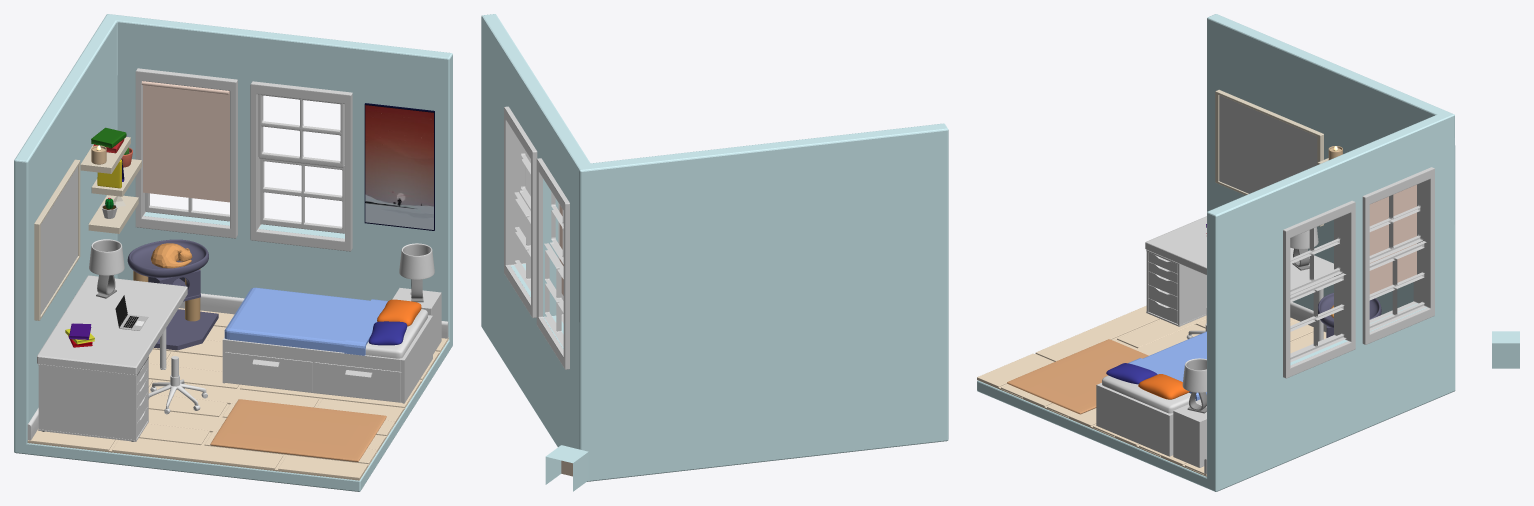
File: room_animation.glb
3 renders of one model, left to right at view 1: azimuth 30°, elevation 25°; view 2: azimuth 150°, elevation 25°; view 3: azimuth 270°, elevation 25°, orthographic. The views are drawn at different scales.
Parts seen in each view (by area): view 1: Body.005, desk-cattree, Bed and nightstand, Wall stuff, Body.011, Floor items, Body.008, Body.004, desk-items-cat, Shelves, Body.003, Body.002 (+3 smaller); view 2: Body.005, Body.008, Body.004, Cube, Body.001, Body.003, Body.009; view 3: Body.005, Bed and nightstand, Wall stuff, desk-cattree, Body.008, Body.004, Floor items, Body.011, Body.003, desk-items-cat, Body.001, Pillows (+3 smaller).
Boxes of the visible parts, left/top/right/bottom form: Body.005: left=14, top=14, right=452, bottom=491; desk-cattree: left=37, top=239, right=218, bottom=441; Bed and nightstand: left=222, top=287, right=441, bottom=403; Wall stuff: left=34, top=103, right=434, bottom=320; Body.011: left=143, top=85, right=229, bottom=202; Floor items: left=148, top=356, right=386, bottom=461; Body.008: left=250, top=81, right=352, bottom=251; Body.004: left=135, top=68, right=237, bottom=238; desk-items-cat: left=65, top=239, right=434, bottom=347; Shelves: left=80, top=127, right=141, bottom=233; Body.003: left=260, top=158, right=344, bottom=233; Body.002: left=258, top=94, right=344, bottom=167; Body.005: left=481, top=14, right=948, bottom=481; Body.008: left=504, top=106, right=537, bottom=317; Body.004: left=536, top=158, right=569, bottom=369; Cube: left=545, top=445, right=588, bottom=491; Body.001: left=544, top=243, right=563, bottom=347; Body.003: left=514, top=192, right=530, bottom=291; Body.009: left=550, top=192, right=563, bottom=263; Body.005: left=977, top=14, right=1455, bottom=491; Bed and nightstand: left=1096, top=331, right=1206, bottom=467; Wall stuff: left=1215, top=89, right=1323, bottom=226; desk-cattree: left=1145, top=216, right=1381, bottom=341; Body.008: left=1283, top=200, right=1355, bottom=378; Body.004: left=1362, top=167, right=1434, bottom=344; Floor items: left=1007, top=307, right=1206, bottom=414; Body.011: left=1369, top=185, right=1416, bottom=294; Body.003: left=1290, top=273, right=1346, bottom=362; desk-items-cat: left=1182, top=224, right=1333, bottom=413; Body.001: left=1369, top=241, right=1427, bottom=330; Pillows: left=1106, top=363, right=1189, bottom=399.
Bounding box in the file's own units: 5.67 × 3.63 × 6.44.
Materials: 44 (1 with a texture image).
